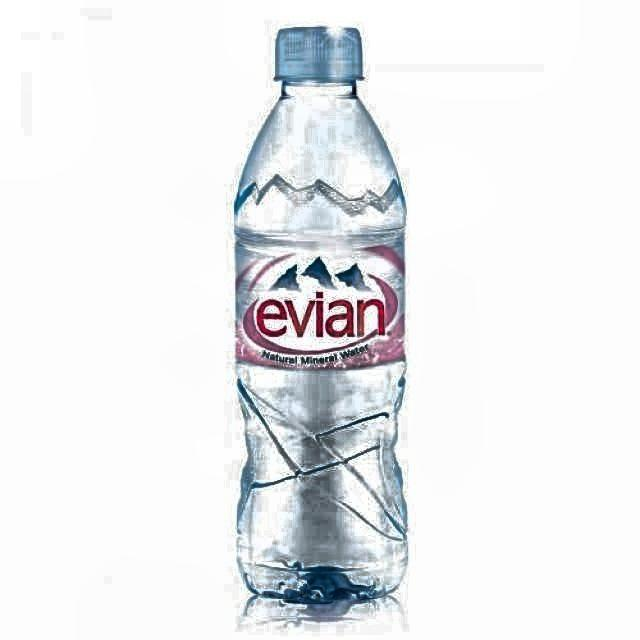plastic: (233, 27, 409, 612)
